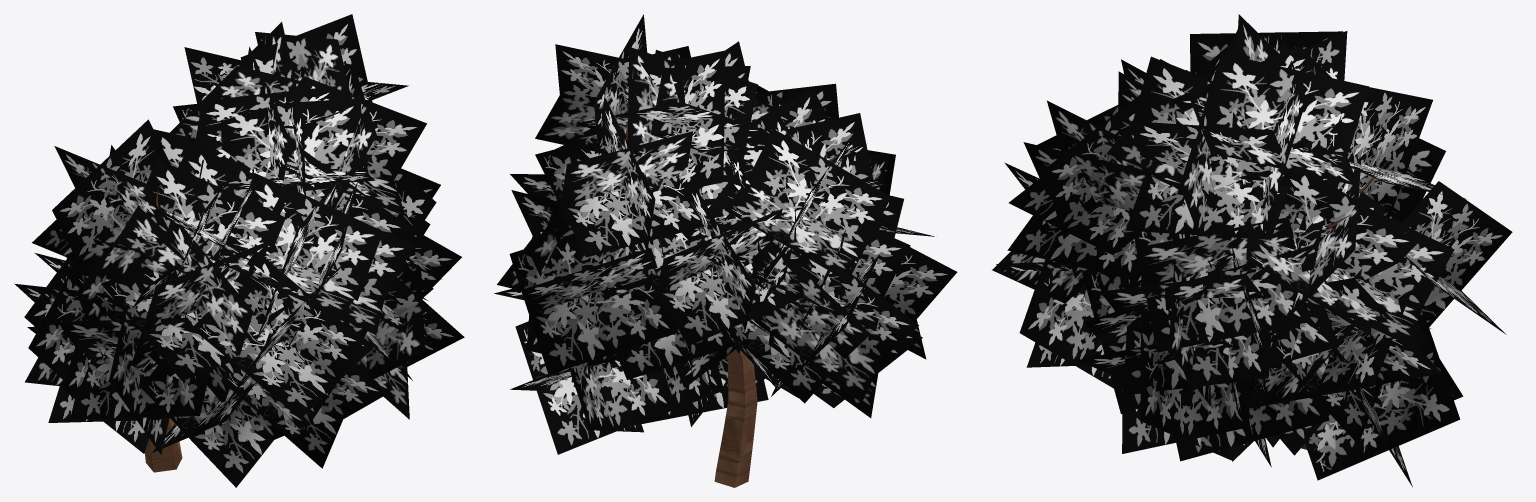
File: M_Tree1_CO.fbx
3 renders of one model, left to right at view 1: azimuth 30°, elevation 25°; view 2: azimuth 150°, elevation 25°; view 3: azimuth 270°, elevation 25°, orthographic. The views are drawn at different scales.
Parts seen in each view (by area): view 1: Lit_ass_tree; view 2: Lit_ass_tree; view 3: Lit_ass_tree.
Boxes of the visible parts, x1,y1,x2,y2 form: Lit_ass_tree: (14,14,464,487); Lit_ass_tree: (494,14,957,487); Lit_ass_tree: (992,14,1512,487).
Size of the model in its own units: 8.49 by 8.53 by 8.91.
